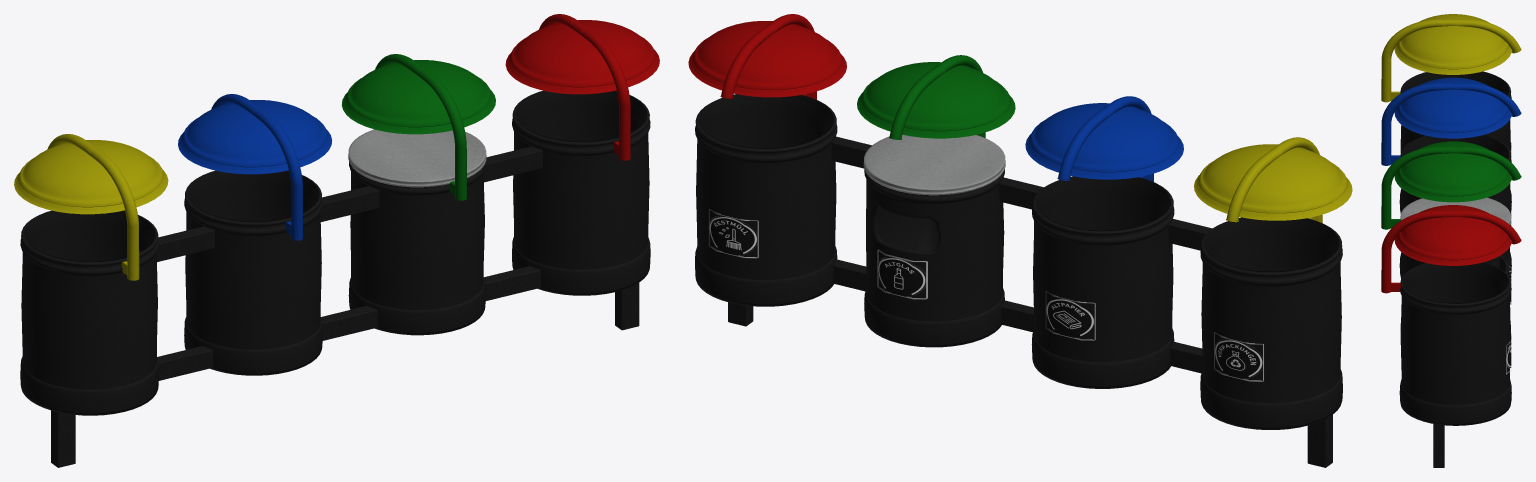
File: bin.glb
The picture shows the model from 3 angles, left to right: view 1: azimuth 30°, elevation 25°; view 2: azimuth 150°, elevation 25°; view 3: azimuth 270°, elevation 25°; orthographic projection. The views are drawn at different scales.
Parts seen in each view (by area): view 1: polySurface13; view 2: polySurface13; view 3: polySurface13.
Part boxes in pixels (bbox=[...]): polySurface13: bbox=[14, 14, 659, 467]; polySurface13: bbox=[688, 14, 1352, 467]; polySurface13: bbox=[1381, 14, 1521, 467].
Size of the model in its own units: 1.2 by 0.5511 by 0.2914.
Materials: 10 (6 with a texture image).
